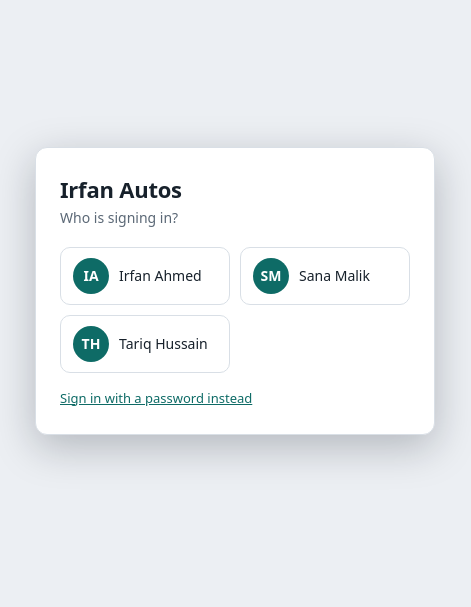
Test case: PIN-style sign-in › deletes the last digit with the delete key and with Backspace
Click the button "IA Irfan Ahmed": click(145, 276) top-left (60, 247), bottom-right (230, 305)
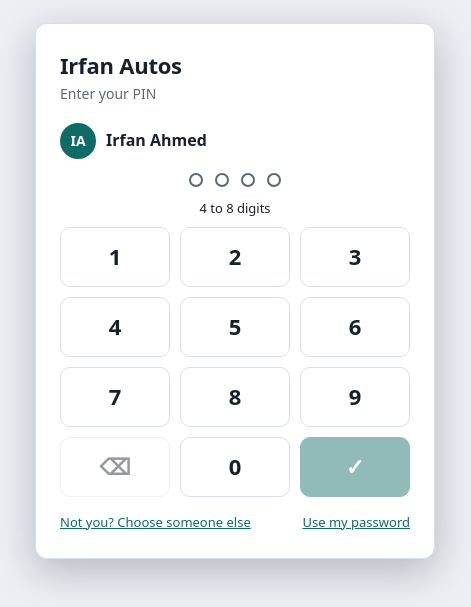
Type keys "12345"
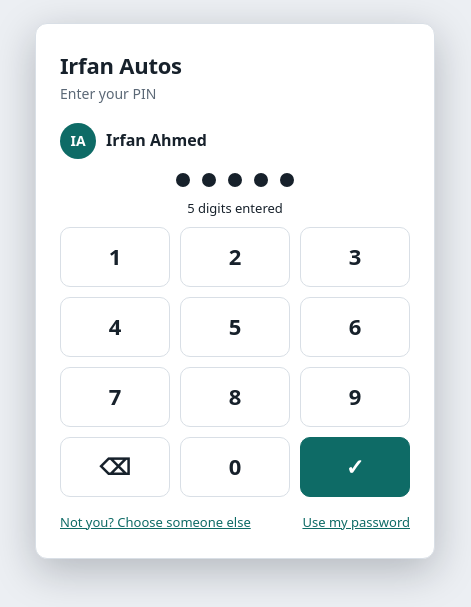
Click the button named "Delete last digit": click(115, 467) top-left (60, 437), bottom-right (170, 497)
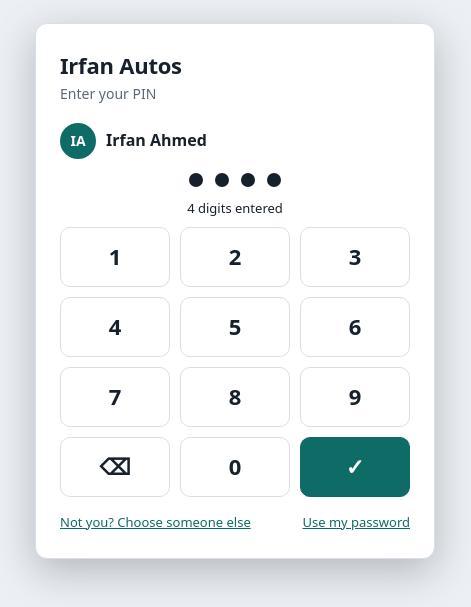
Now the text "4 digits entered" is shown, box top-left (187, 199), bottom-right (283, 217)
Press Backspace
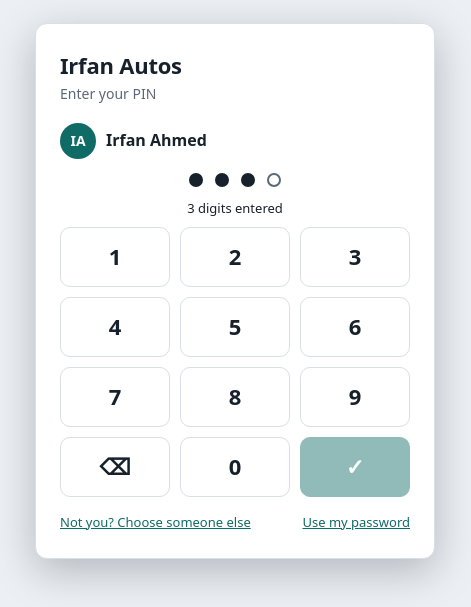
Now the text "3 digits entered" is shown, box top-left (187, 199), bottom-right (283, 217)
